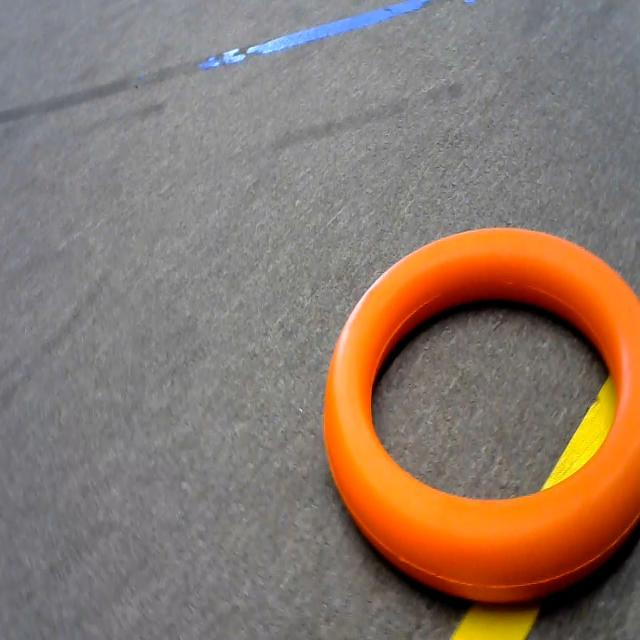note: (316, 222, 640, 628)
